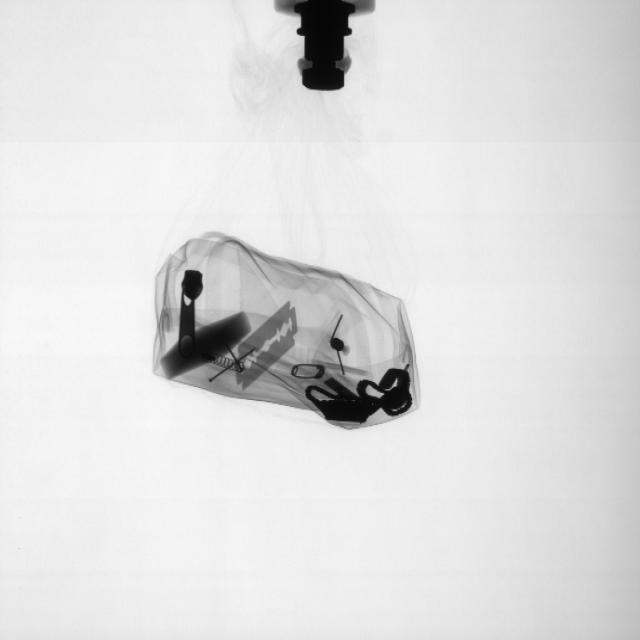BLADE: (243, 298, 302, 376)
